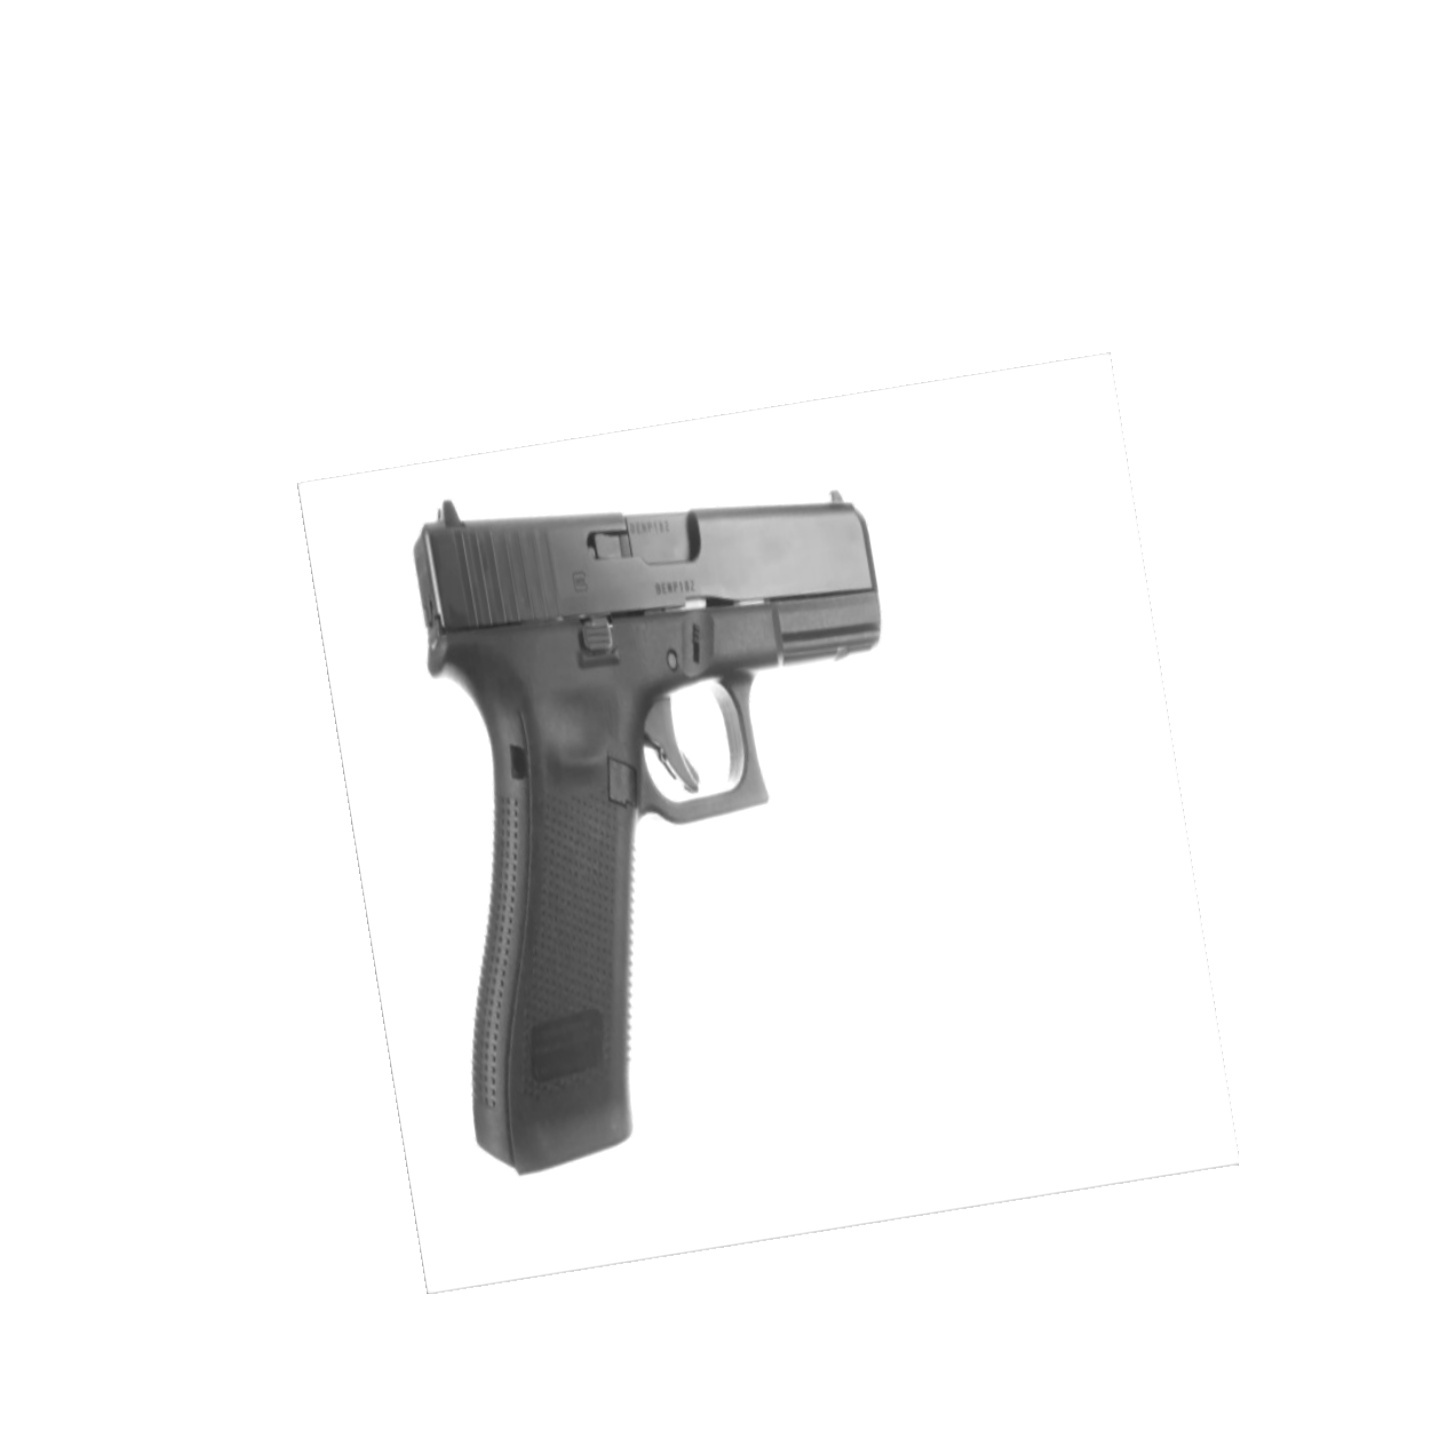gun: (410, 489, 884, 1179)
